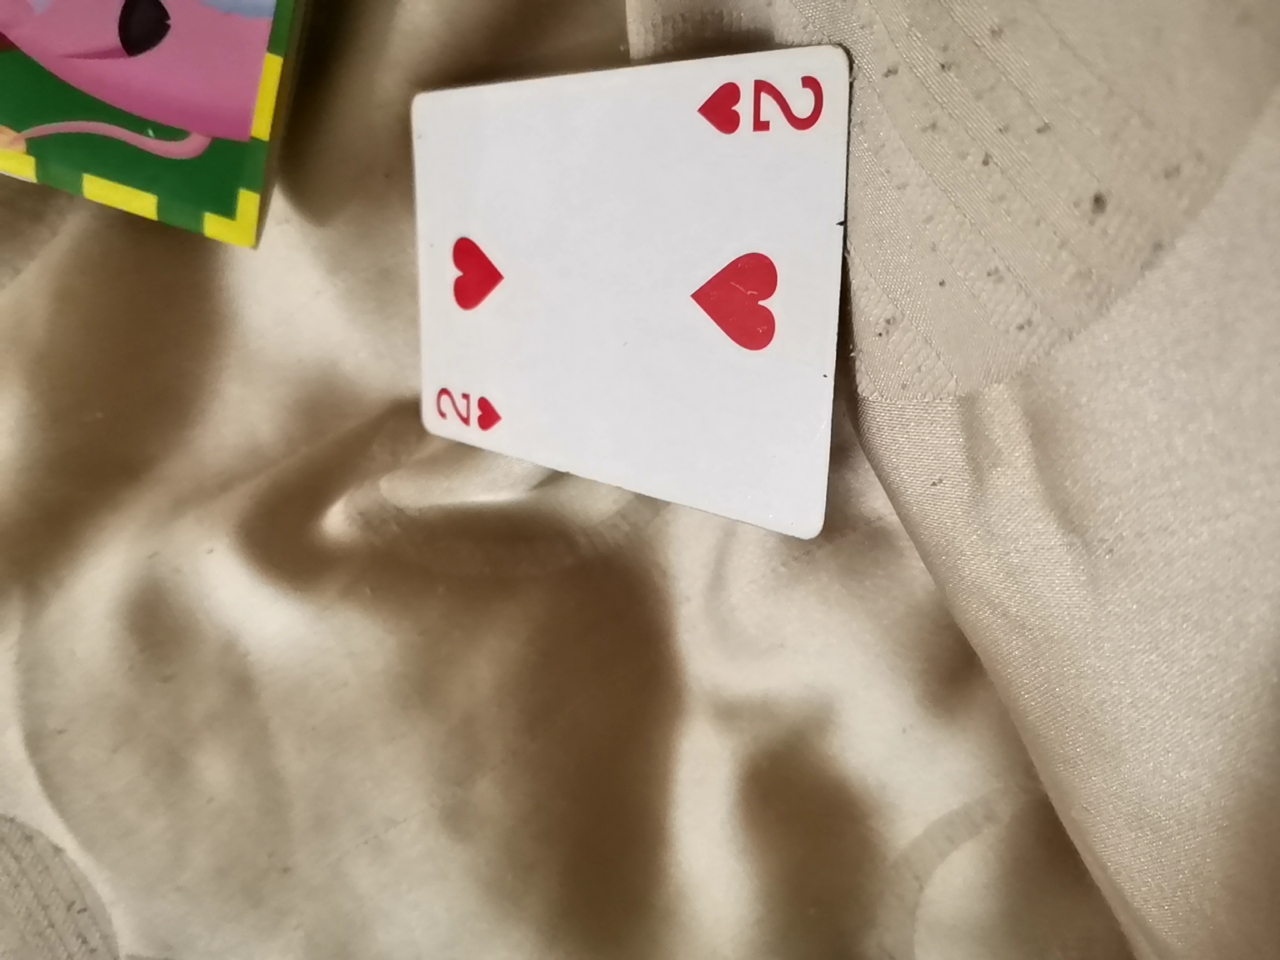hx 2: (397, 35, 874, 556)
